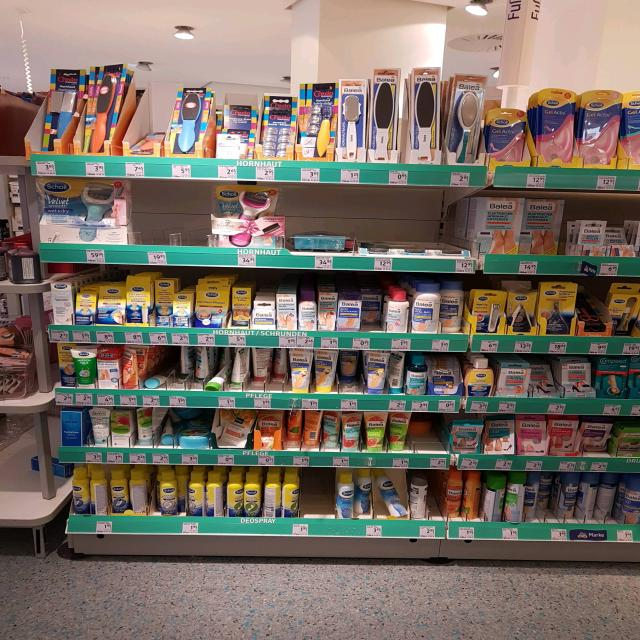void: (140, 180, 207, 267), (420, 190, 467, 274), (303, 469, 334, 535)
